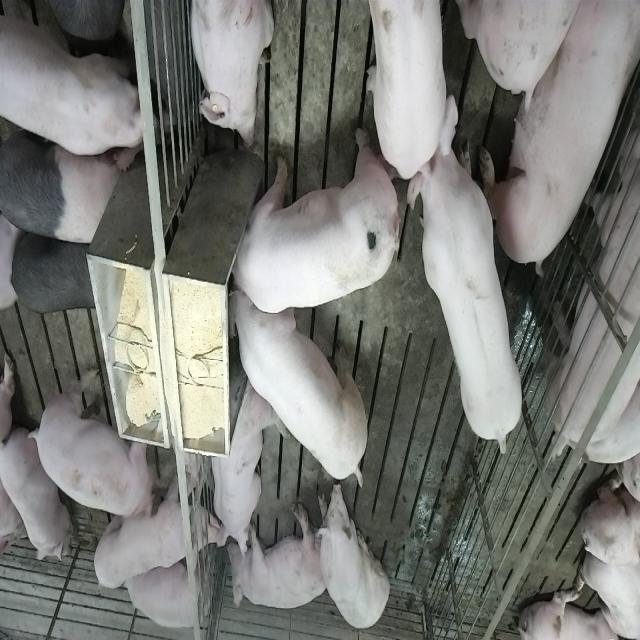Feeding: (220, 126, 397, 314), (230, 284, 372, 498)
Lateral_lying: (226, 502, 331, 612)
Sitting: (316, 480, 390, 633)
Standing: (544, 0, 640, 472), (410, 116, 524, 453), (2, 0, 144, 159), (29, 364, 158, 522), (369, 0, 464, 178), (2, 120, 124, 248), (91, 473, 221, 592)
Sternal_lying: (186, 0, 274, 150), (208, 376, 281, 554), (2, 418, 71, 566)
